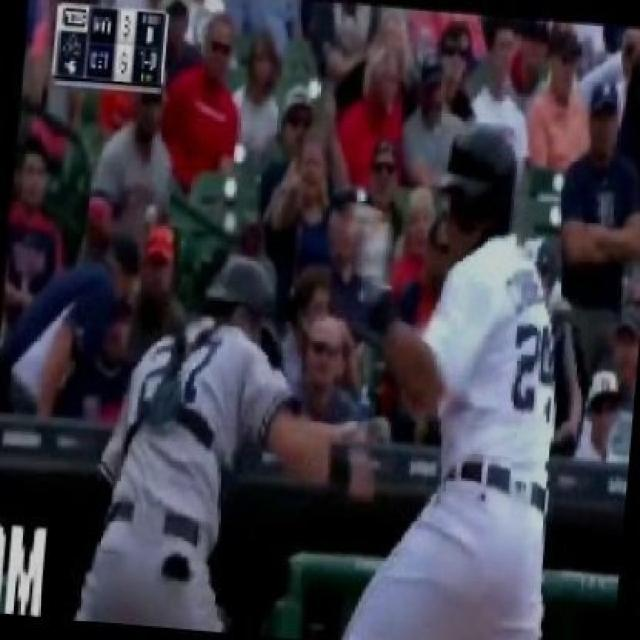non-fight: (327, 114, 623, 638), (52, 241, 381, 629)
